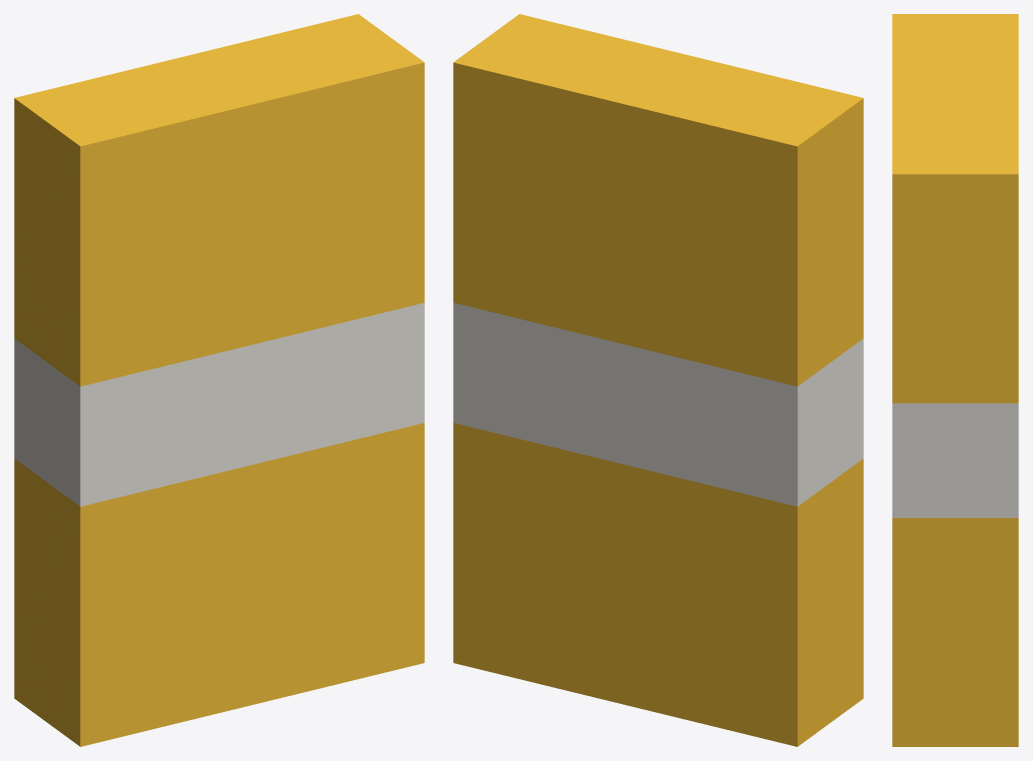
File: cm_cloth_2.glb
3 views of the same model, side by side, from view 1: azimuth 30°, elevation 25°; view 2: azimuth 150°, elevation 25°; view 3: azimuth 270°, elevation 25° (orthographic). The views are drawn at different scales.
Visible parts, largest first — view 1: cm_cloth_2_body; view 2: cm_cloth_2_body; view 3: cm_cloth_2_body.
Boxes of the visible parts, left/top/right/bottom form: cm_cloth_2_body: left=14, top=14, right=424, bottom=746; cm_cloth_2_body: left=453, top=14, right=863, bottom=746; cm_cloth_2_body: left=892, top=14, right=1018, bottom=746.
Size of the model in its own units: 0.1875 by 0.3125 by 0.0625.
1 material, 1 textured.
